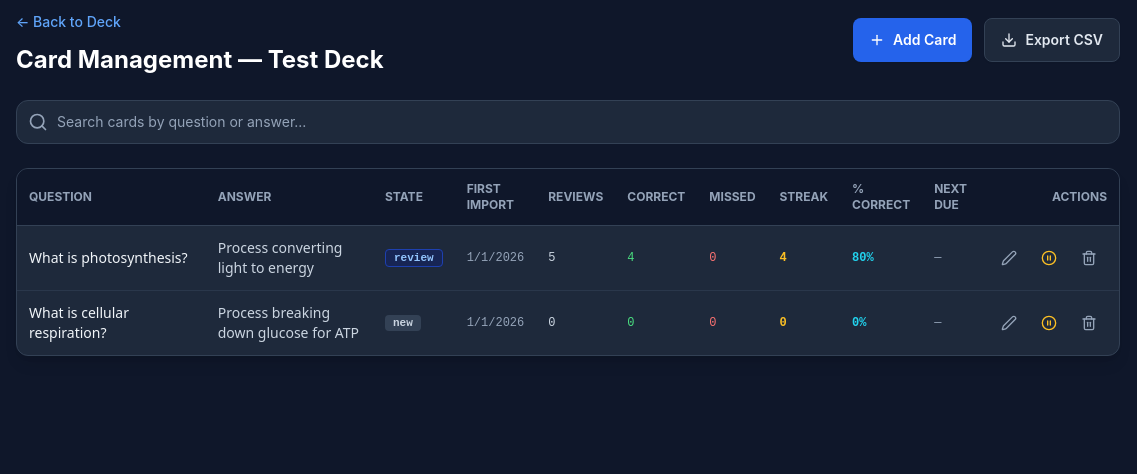
Test case: CardManagementView (MGT-001..MGT-011) › MGT-005: Edit that would duplicate another card in deck is rejected without changing either card
This screenshot has width=1137, height=474.
Click the button named "edit card" in the row of "What is photosynthesis?".
click(1009, 258)  # box top-left (991, 240), bottom-right (1027, 276)
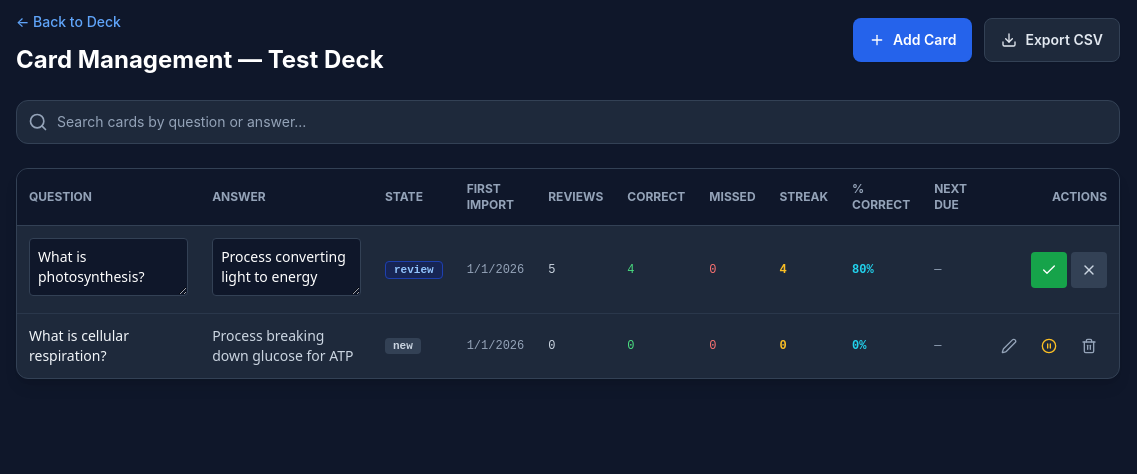
Replace the text in the 1st text box showing "What is photosynthesis?" with "What is cellular respiration?" at (109, 267), box top-left (29, 238), bottom-right (188, 296)
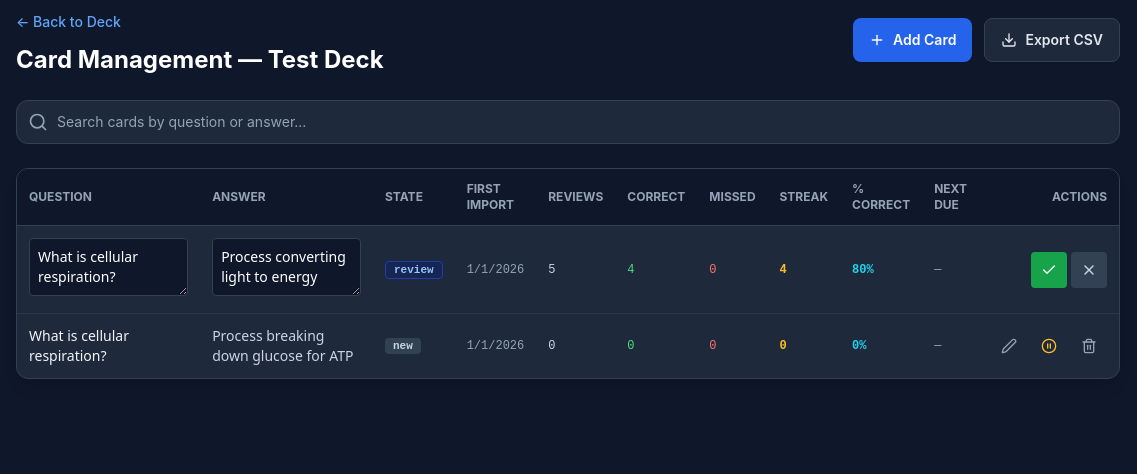
Replace the text in the 2nd text box showing "Process converting light to energy" with "Process breaking down glucose for ATP" at (287, 267), box top-left (212, 238), bottom-right (361, 296)
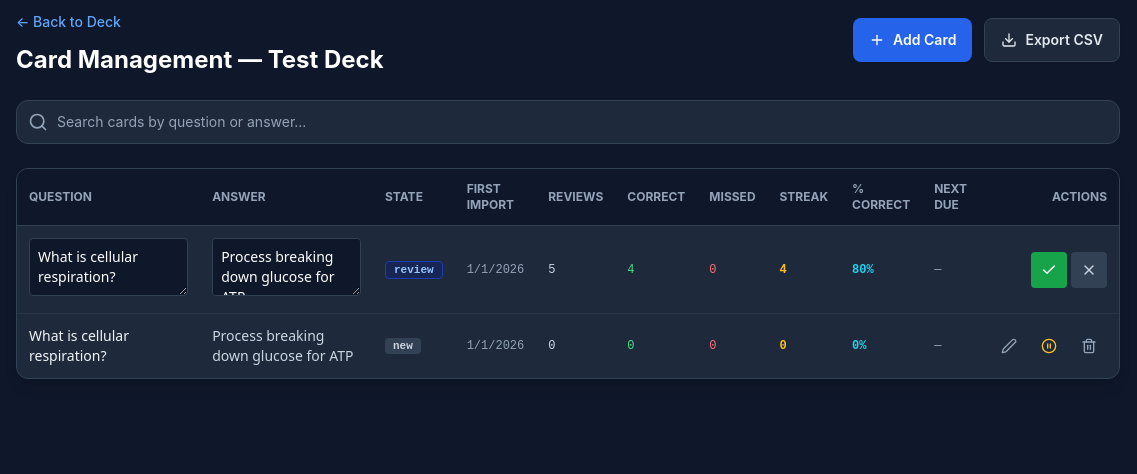
Click the button named "save changes".
click(1049, 270)  # box top-left (1031, 252), bottom-right (1067, 288)
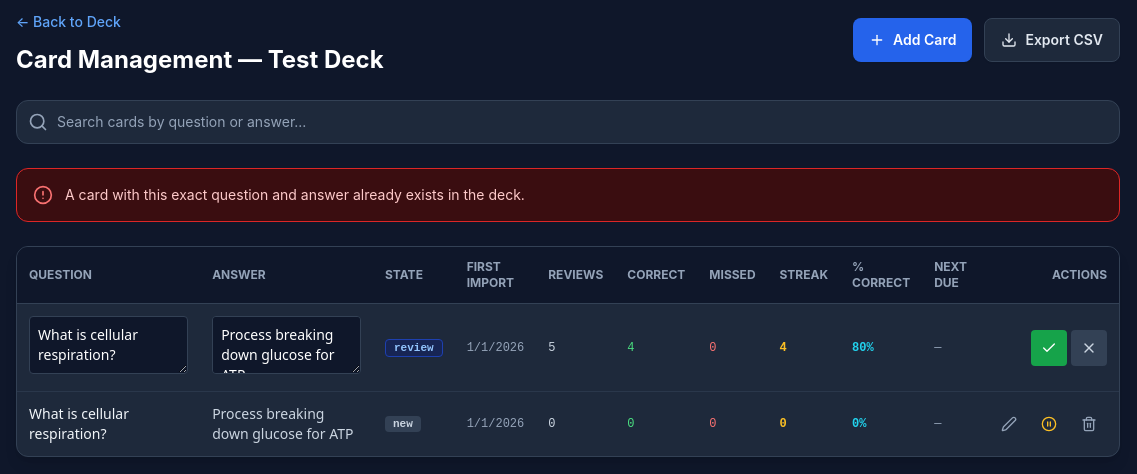
Expected: the text "already exists in the deck" is shown, top-left (65, 186), bottom-right (525, 203)
